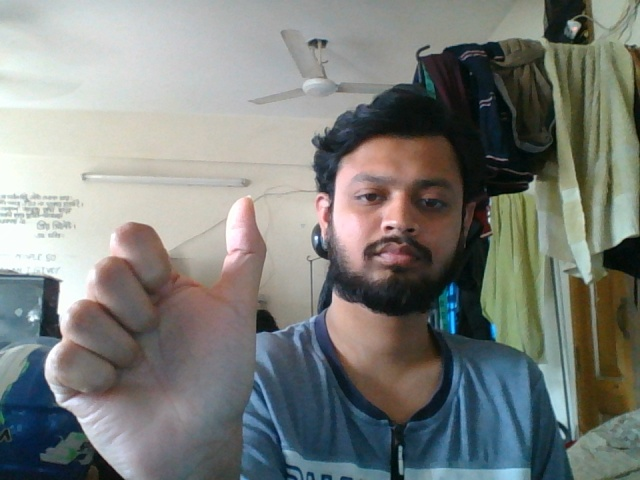dho: (38, 190, 282, 471)
